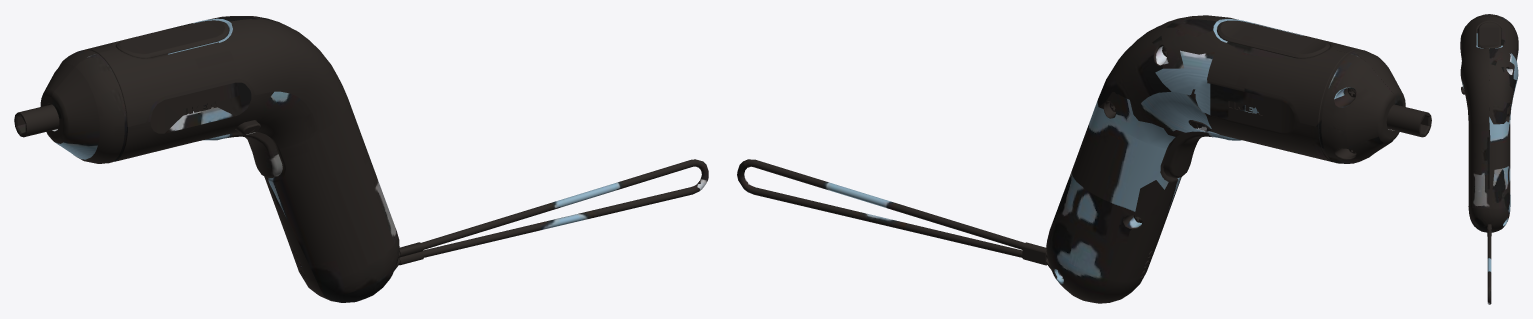
The model's file is trixig_orginal.glb.
3 views of the same model, side by side, from view 1: azimuth 30°, elevation 25°; view 2: azimuth 150°, elevation 25°; view 3: azimuth 270°, elevation 25° (orthographic). The views are drawn at different scales.
Parts seen in each view (by area): view 1: Geometry; view 2: Geometry; view 3: Geometry.
Boxes of the visible parts, x1=… form: Geometry: x1=14, y1=16, x2=708, y2=302; Geometry: x1=737, y1=15, x2=1431, y2=303; Geometry: x1=1460, y1=14, x2=1518, y2=304.
Bounding box in the file's own units: 0.3137 × 0.1336 × 0.0461.
Materials: 1 (1 with a texture image).
